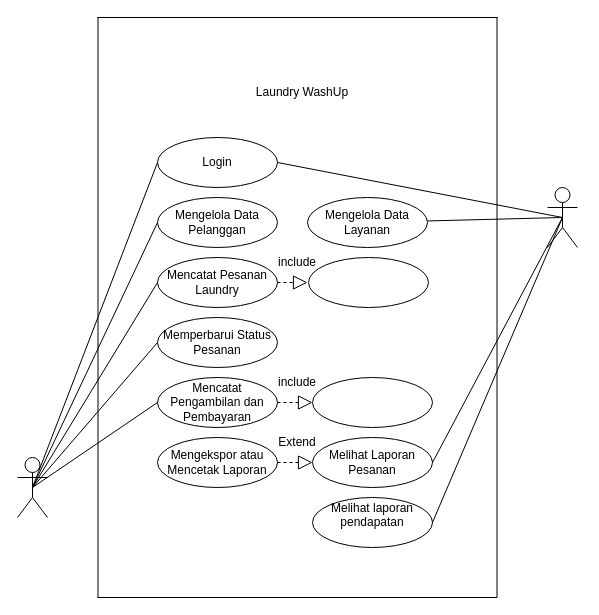
Image size: 599x615. Some labels were removed from this diagram. The box of each missing label's shape, as (x1, y1, x2, y2) in pixels:
Kasir: (16, 456, 48, 518)
Memeriksa Status Selesai: (312, 376, 432, 428)
Menghitung Total Biaya: (308, 256, 428, 308)
Pemilik: (546, 186, 578, 248)
